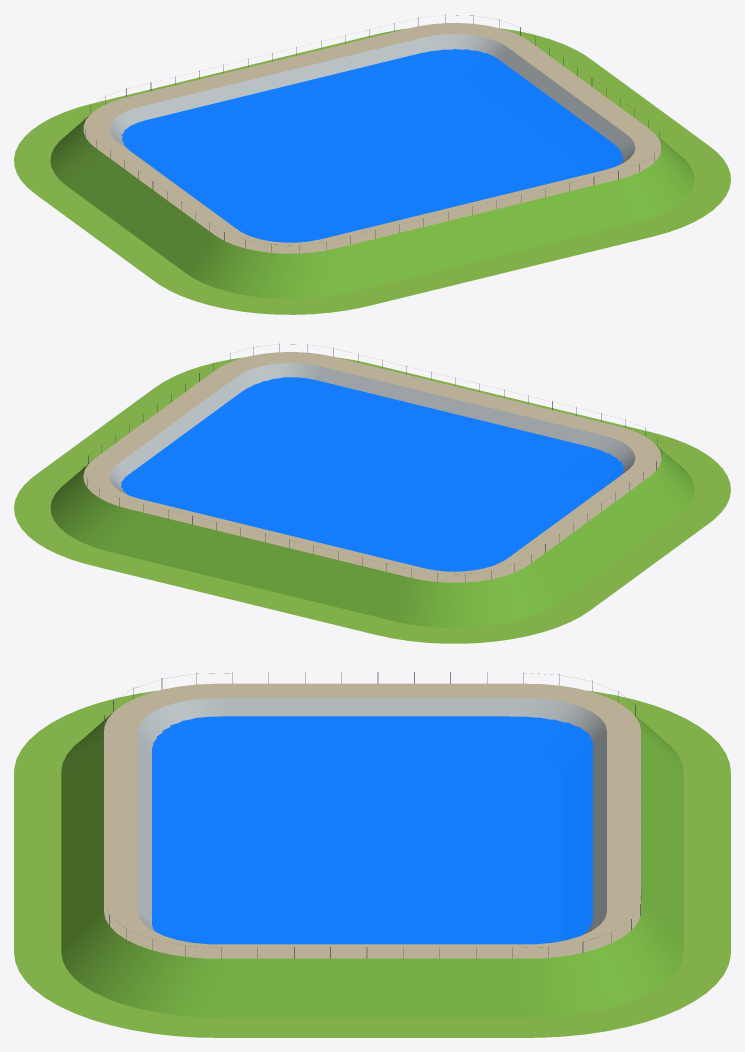
The model's file is embalse-riego.glb.
The picture shows the model from 3 angles, top to bottom: view 1: azimuth 30°, elevation 25°; view 2: azimuth 150°, elevation 25°; view 3: azimuth 270°, elevation 25°; orthographic projection. The views are drawn at different scales.
Visible parts, largest first — view 1: BIG_BALSA_RIEGO_CLEAN, Irrigation Water Mirror; view 2: BIG_BALSA_RIEGO_CLEAN, Irrigation Water Mirror; view 3: BIG_BALSA_RIEGO_CLEAN, Irrigation Water Mirror.
Part boxes in pixels (<box>): BIG_BALSA_RIEGO_CLEAN: <box>14,14,730,314</box>; Irrigation Water Mirror: <box>121,49,623,242</box>; BIG_BALSA_RIEGO_CLEAN: <box>14,343,730,643</box>; Irrigation Water Mirror: <box>121,377,623,571</box>; BIG_BALSA_RIEGO_CLEAN: <box>14,672,730,1037</box>; Irrigation Water Mirror: <box>152,716,592,944</box>.
Size of the model in its own units: 87.8 by 6.16 by 75.8.
